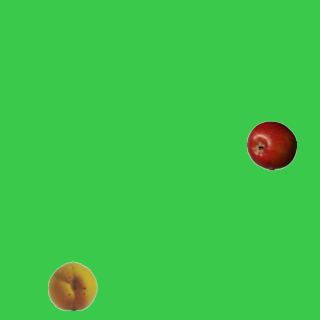Apple Braeburn: (246, 120, 296, 170)
Peach 2: (47, 260, 97, 310)
